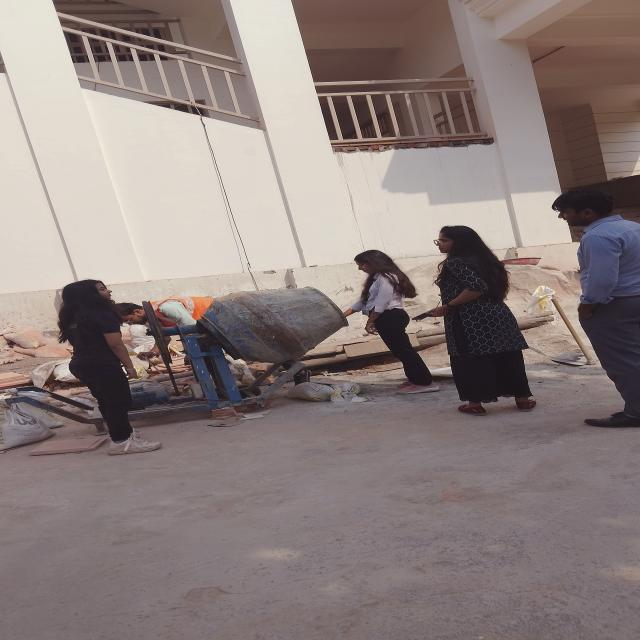unsafe: (549, 190, 640, 433), (424, 225, 539, 416), (56, 276, 168, 455), (341, 248, 438, 399)
